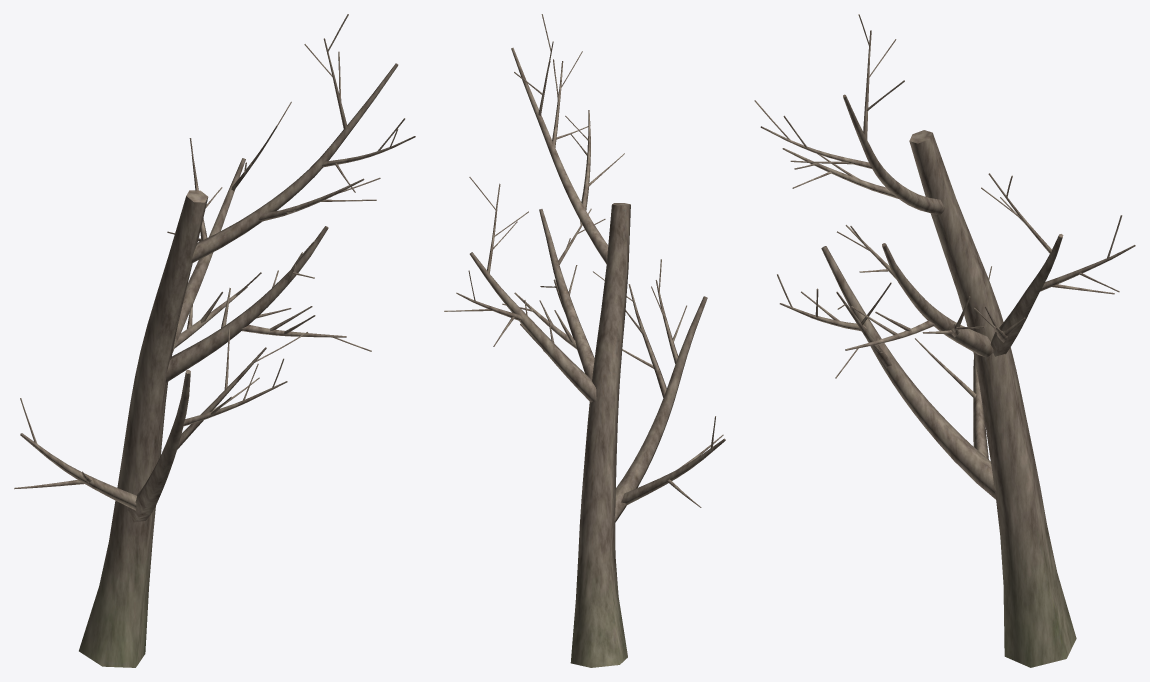
The model's file is oak1_trunk.glb.
3 views of the same model, side by side, from view 1: azimuth 30°, elevation 25°; view 2: azimuth 150°, elevation 25°; view 3: azimuth 270°, elevation 25° (orthographic). The views are drawn at different scales.
Visible parts, largest first — view 1: trunk; view 2: trunk; view 3: trunk.
Boxes of the visible parts, box(x1,y1,x2,y2) form: trunk: box(14, 14, 415, 667); trunk: box(444, 14, 725, 667); trunk: box(754, 14, 1135, 667).
Bounding box in the file's own units: 3.95 × 7.99 × 3.84.
Materials: 1 (1 with a texture image).
